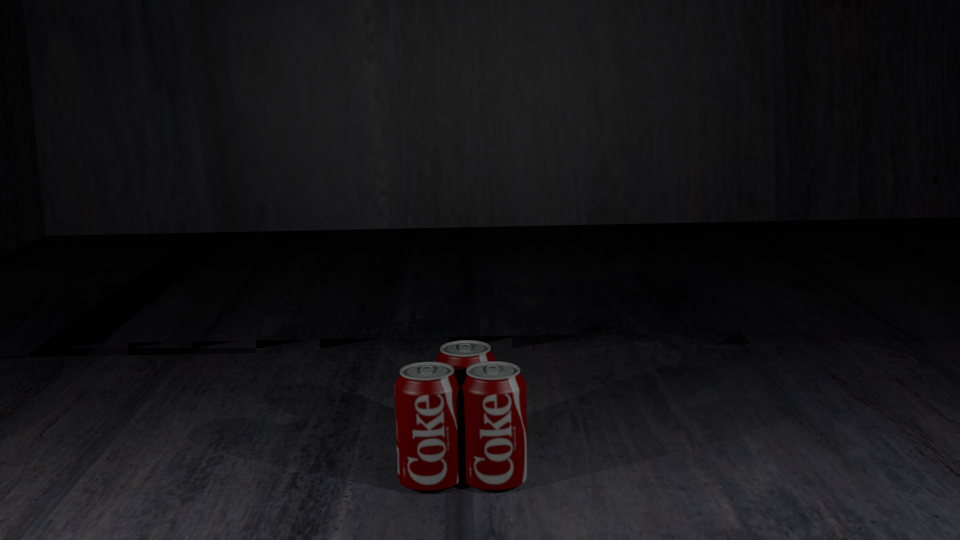cola_can: (395, 362, 460, 487), (461, 362, 525, 485), (435, 341, 495, 458)
